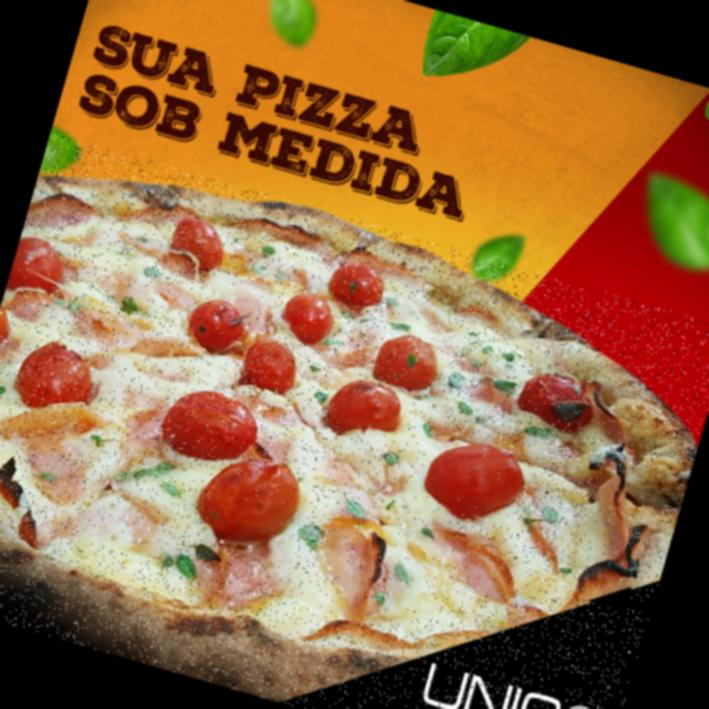Cheese: (100, 329, 232, 408), (377, 502, 455, 628), (520, 444, 606, 544), (385, 392, 448, 528), (442, 318, 530, 378), (79, 220, 163, 277), (134, 452, 210, 514), (274, 406, 340, 470), (381, 290, 452, 340), (206, 270, 286, 314), (256, 246, 328, 289)
Ham: (0, 386, 102, 557), (565, 458, 664, 613), (9, 287, 192, 363), (304, 510, 404, 625), (419, 524, 527, 612), (78, 485, 174, 564), (90, 262, 197, 322), (115, 396, 178, 473), (314, 447, 396, 504), (578, 380, 638, 446), (466, 372, 517, 411)
Pizza: (0, 131, 709, 709)
Tomatoes: (201, 454, 313, 562), (418, 431, 530, 528), (161, 384, 262, 466), (10, 333, 98, 416), (318, 372, 412, 448), (516, 366, 602, 434), (370, 324, 448, 396), (183, 292, 249, 360), (238, 334, 304, 398), (6, 232, 68, 298), (276, 286, 338, 348), (166, 215, 228, 277), (324, 256, 387, 316), (0, 305, 14, 355)
